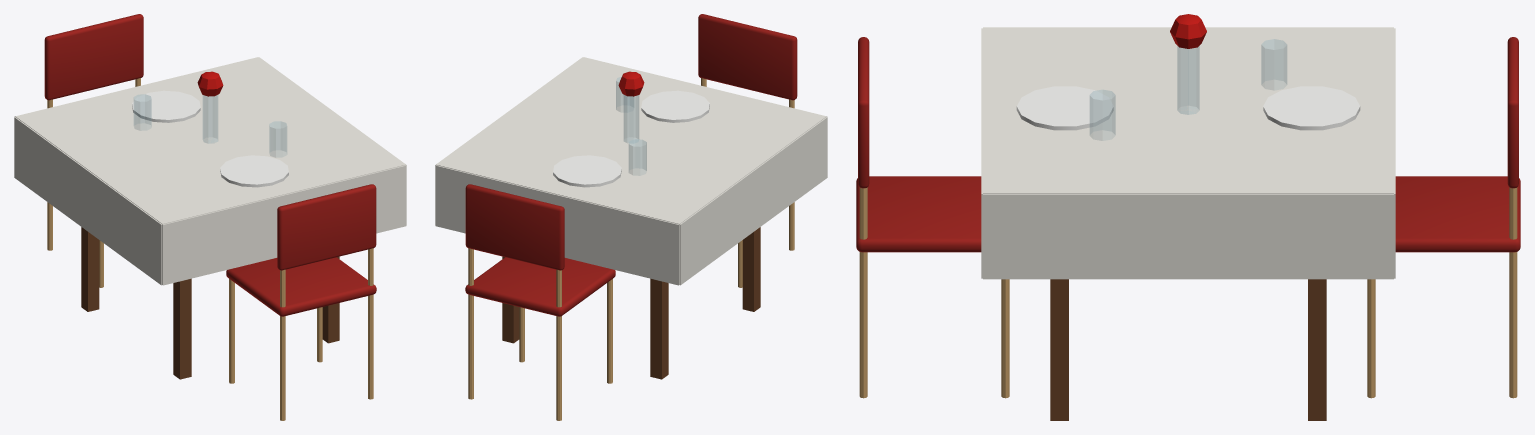
Rendered from hospitality.restaurant.laid_table_2.glb.
The picture shows the model from 3 angles, left to right: view 1: azimuth 30°, elevation 25°; view 2: azimuth 150°, elevation 25°; view 3: azimuth 270°, elevation 25°; orthographic projection. The views are drawn at different scales.
Parts seen in each view (by area): view 1: table__fabric_white, chairs__fabric_red, table__hardwood, setting__ceramic, chairs__glulam, setting__glass, setting__plastic_red; view 2: table__fabric_white, chairs__fabric_red, table__hardwood, setting__ceramic, chairs__glulam, setting__glass, setting__plastic_red; view 3: table__fabric_white, chairs__fabric_red, setting__ceramic, chairs__glulam, table__hardwood, setting__glass, setting__plastic_red.
Boxes of the visible parts, bbox=[...] form: table__fabric_white: bbox=[14, 57, 406, 285]; chairs__fabric_red: bbox=[44, 14, 376, 316]; table__hardwood: bbox=[81, 227, 339, 379]; setting__ceramic: bbox=[132, 90, 288, 187]; chairs__glulam: bbox=[47, 78, 373, 420]; setting__glass: bbox=[134, 94, 286, 157]; setting__plastic_red: bbox=[197, 71, 223, 96]; table__fabric_white: bbox=[435, 57, 827, 285]; chairs__fabric_red: bbox=[465, 14, 797, 316]; table__hardwood: bbox=[502, 227, 760, 379]; setting__ceramic: bbox=[553, 90, 709, 187]; chairs__glulam: bbox=[468, 78, 794, 420]; setting__glass: bbox=[616, 76, 646, 175]; setting__plastic_red: bbox=[618, 71, 644, 96]; table__fabric_white: bbox=[981, 27, 1395, 279]; chairs__fabric_red: bbox=[856, 37, 1520, 252]; setting__ceramic: bbox=[1016, 86, 1360, 130]; chairs__glulam: bbox=[859, 187, 1517, 398]; table__hardwood: bbox=[1050, 279, 1326, 420]; setting__glass: bbox=[1090, 39, 1286, 140]; setting__plastic_red: bbox=[1170, 14, 1206, 48].
Bounding box in the file's own units: 1.06 × 1.04 × 1.78.
